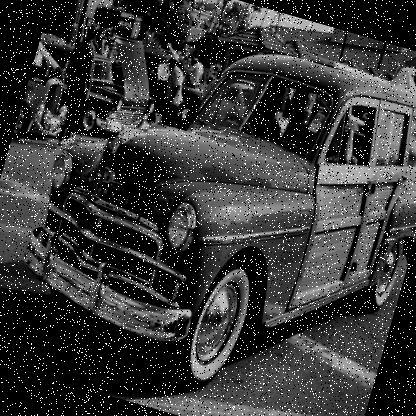Car: (0, 0, 415, 415), (22, 21, 169, 150), (96, 38, 211, 134), (12, 40, 84, 154), (189, 71, 295, 145)
